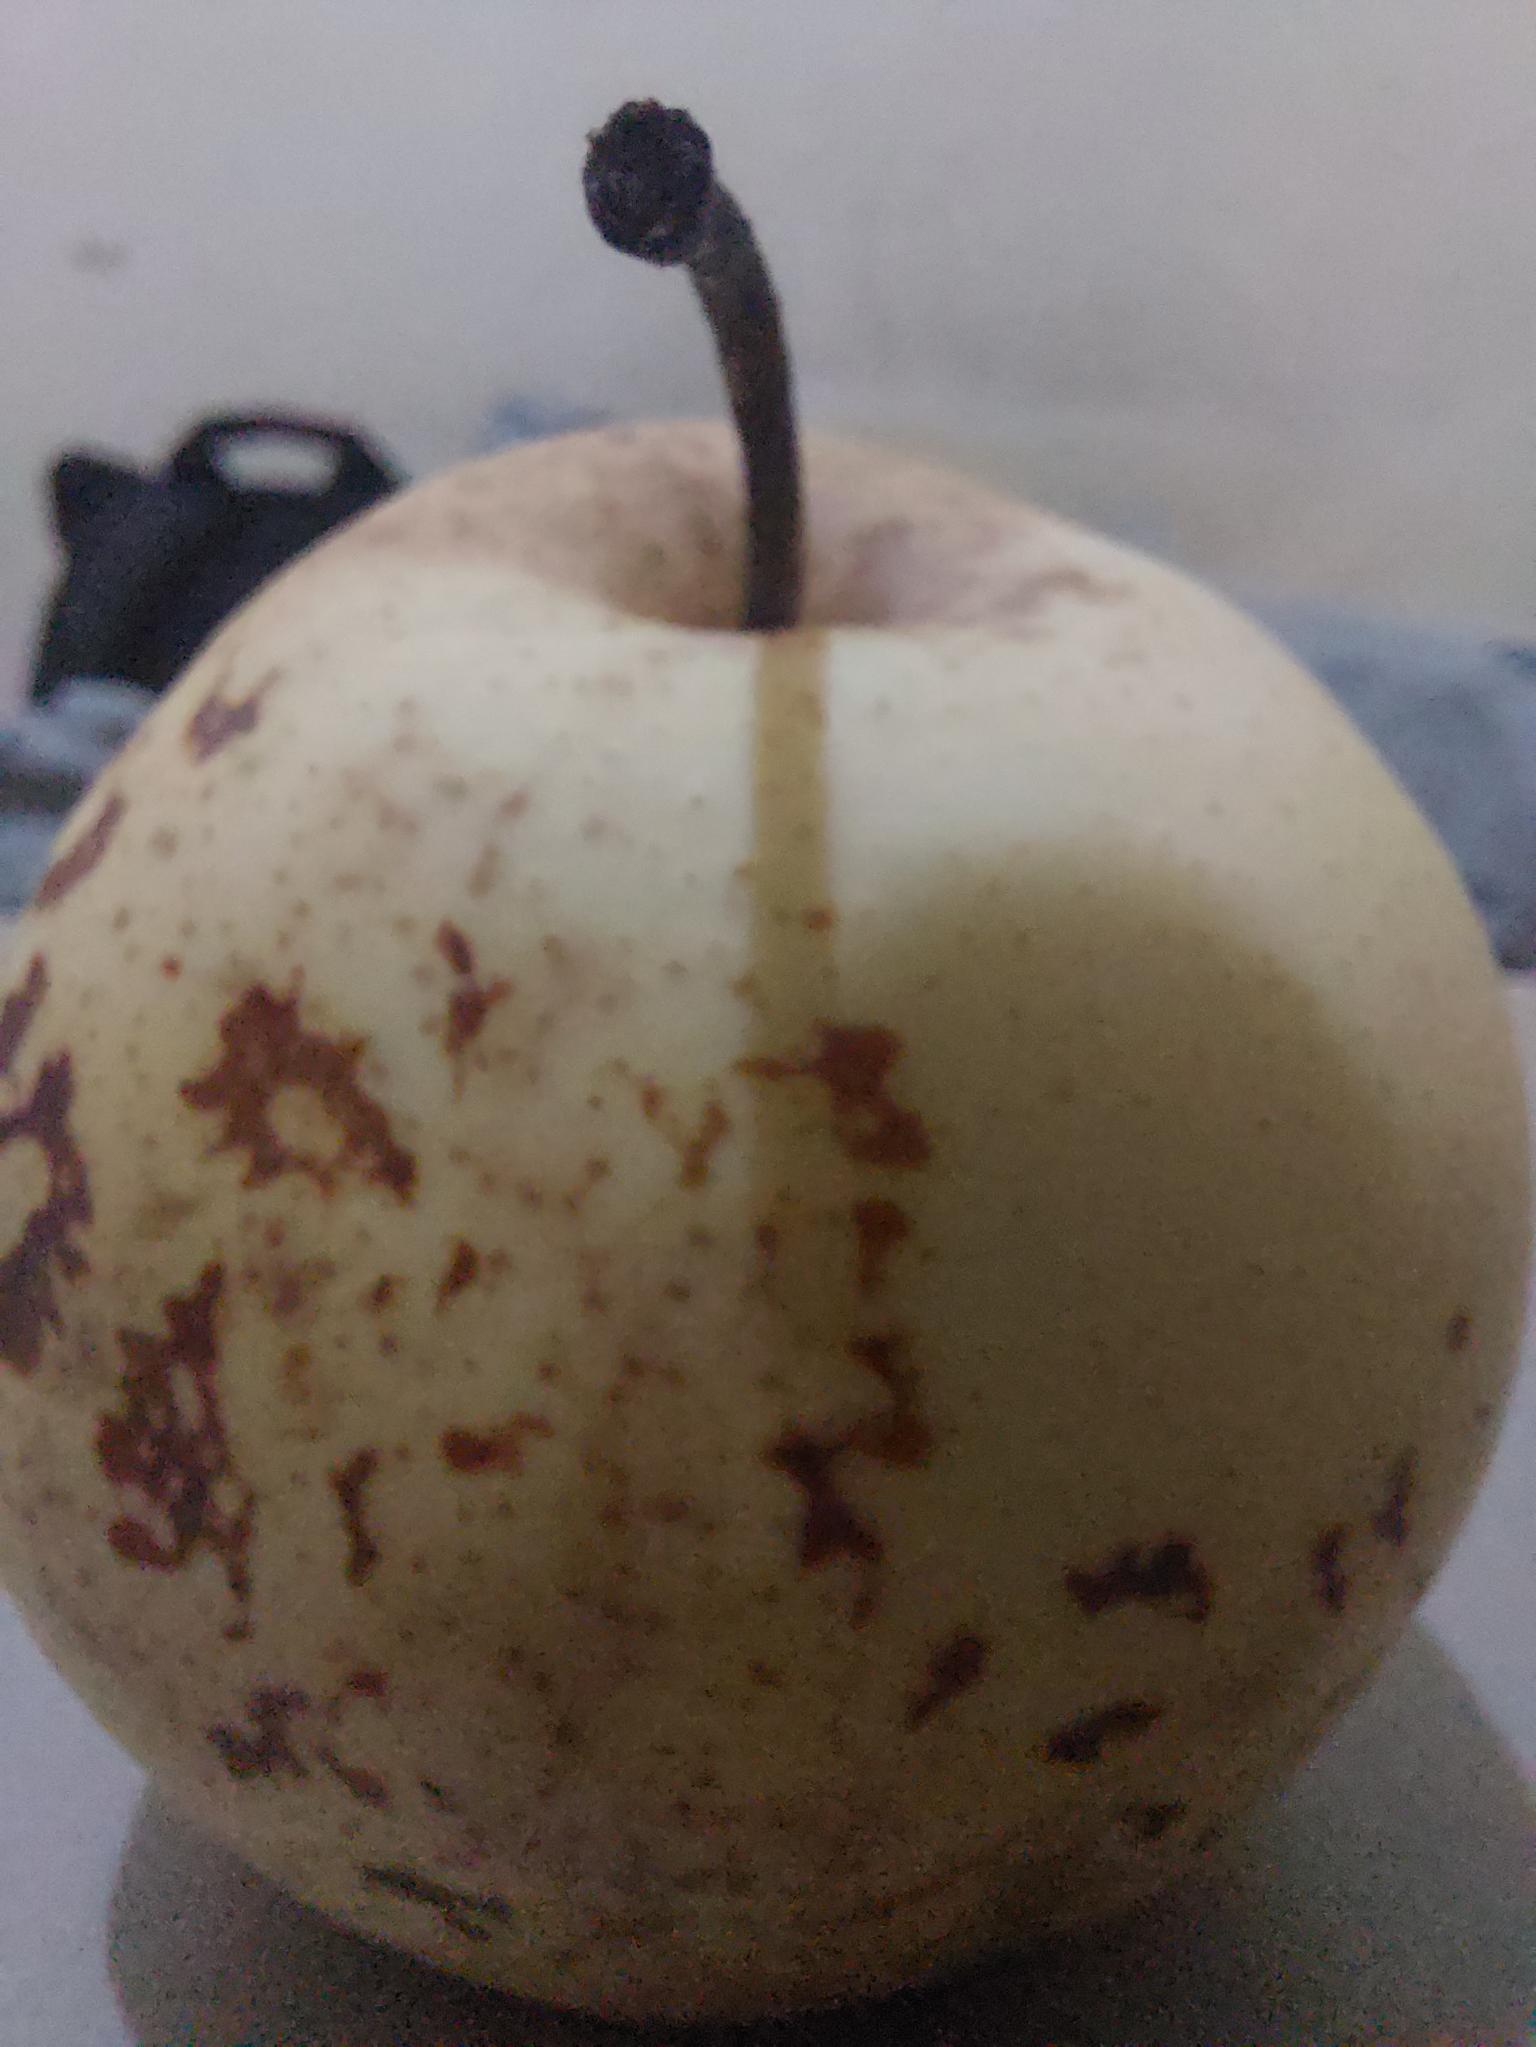Bad Pear: (3, 113, 1536, 1986)
